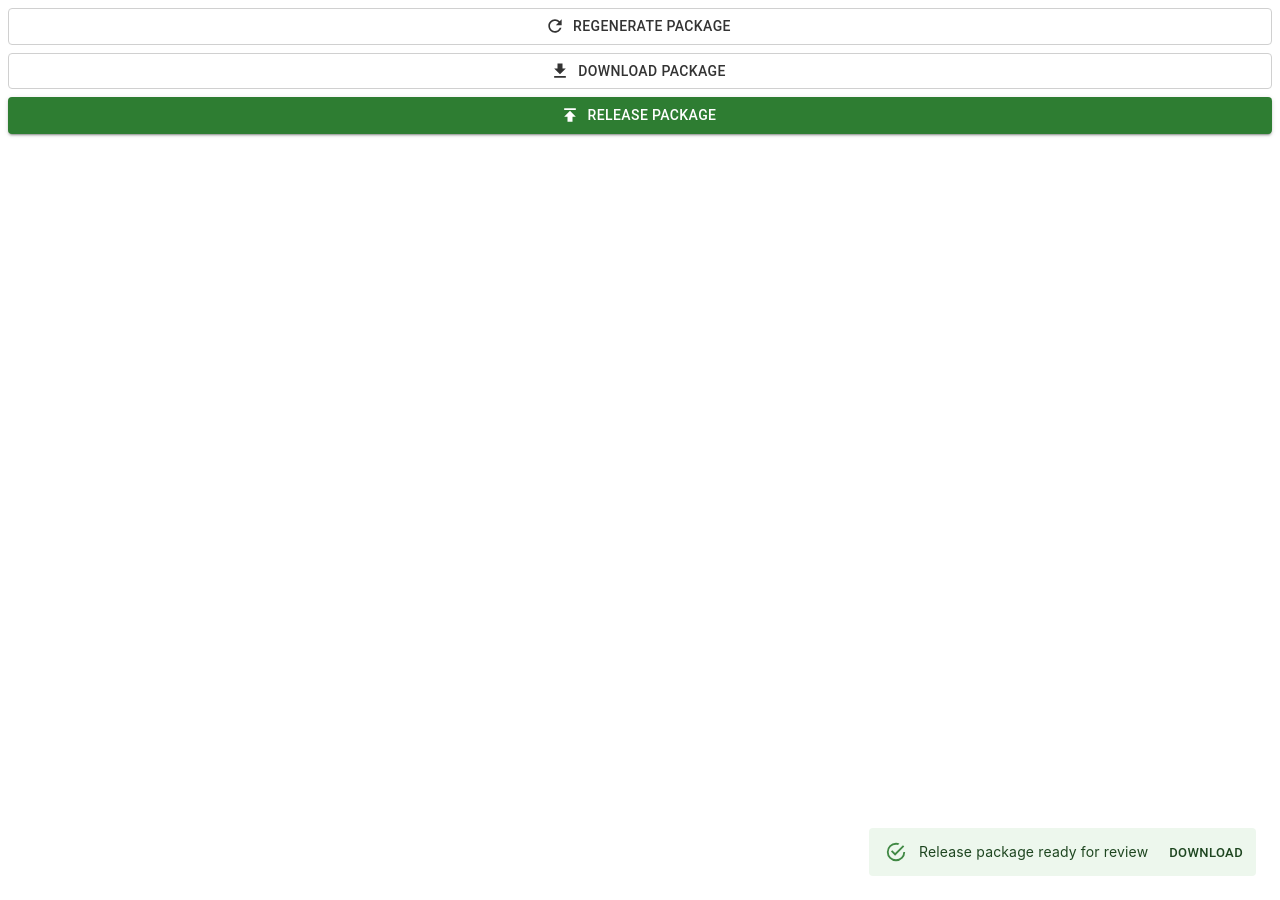
Scenario: ReleasePackageActions — download flow › shows a toast error when the download fails
Click the button "DOWNLOAD PACKAGE": (640, 71) [8, 52, 1272, 89]
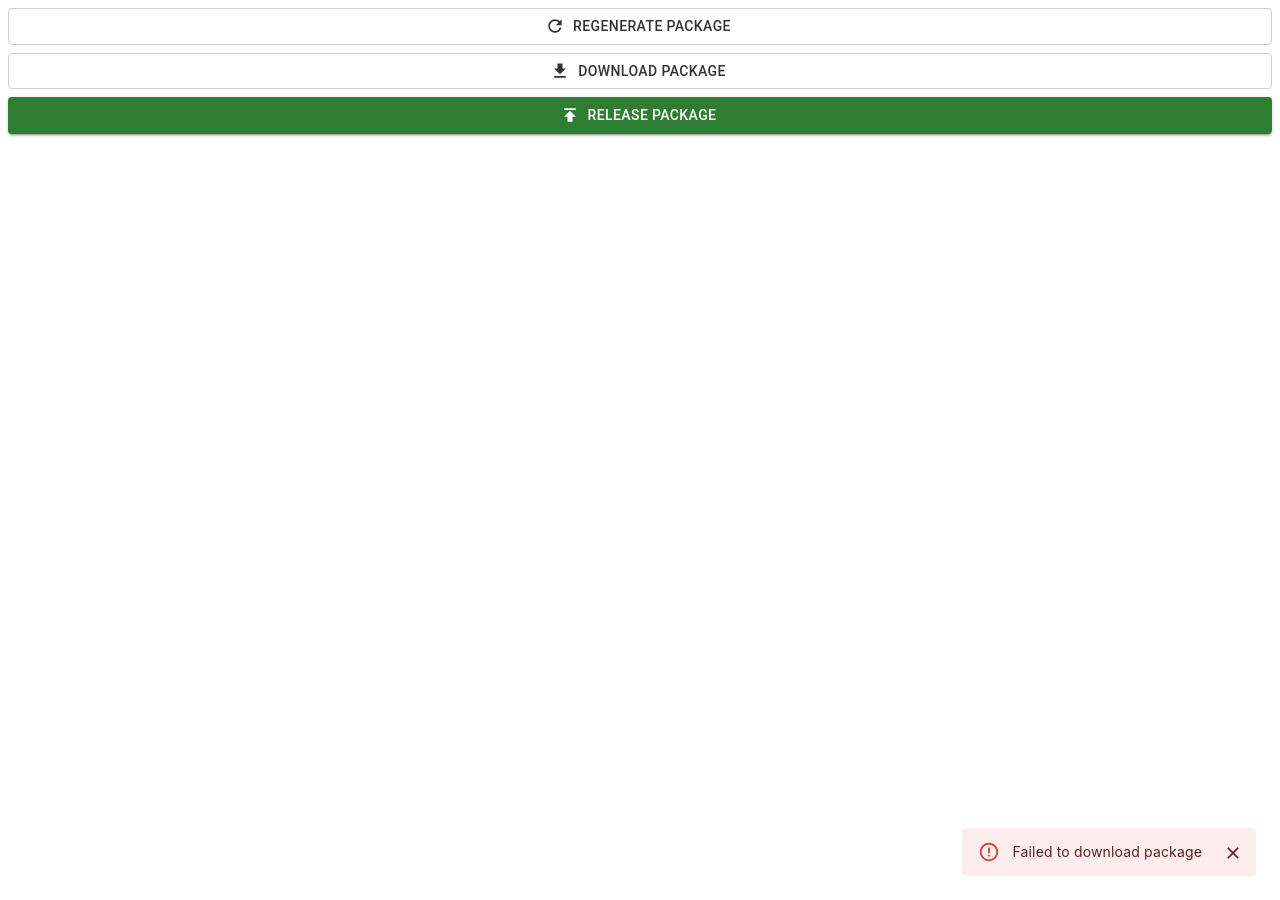
Result: the text "Failed to download package" is shown at [1012, 843, 1202, 860]
